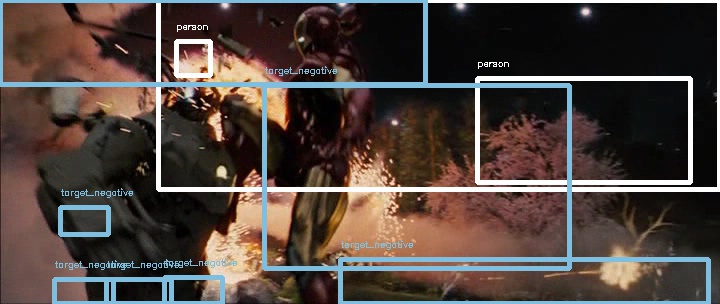person: (296, 12, 338, 58), (295, 12, 337, 58), (297, 12, 339, 58), (296, 11, 338, 57), (296, 13, 338, 59)
target_negative: (42, 158, 583, 215), (457, 17, 506, 296), (584, 125, 649, 269), (671, 95, 711, 143), (630, 221, 679, 258)
